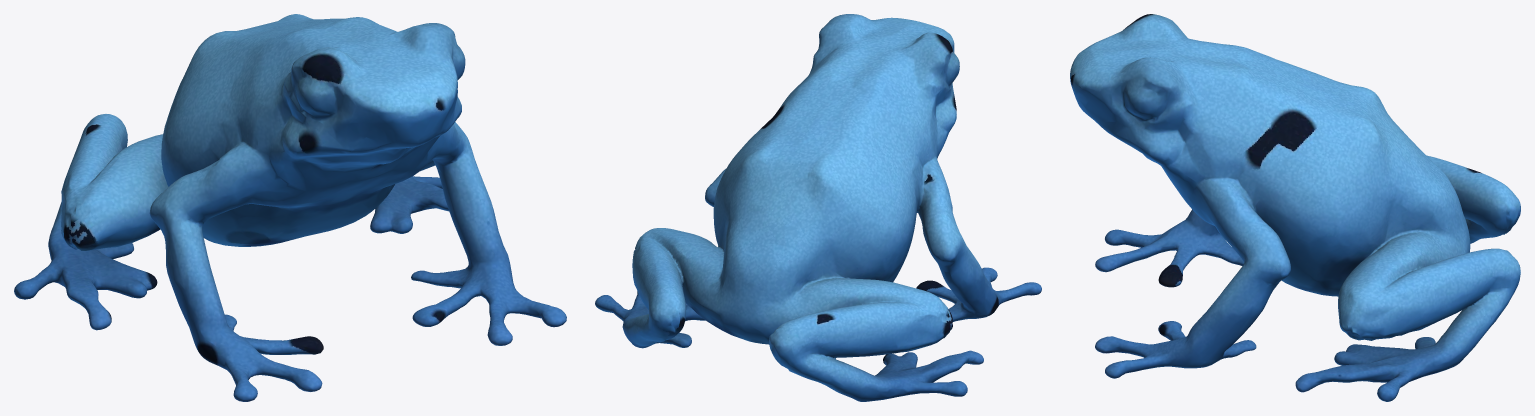
The model's file is dartfrog-sky_clean.glb.
3 views of the same model, side by side, from view 1: azimuth 30°, elevation 25°; view 2: azimuth 150°, elevation 25°; view 3: azimuth 270°, elevation 25° (orthographic). The views are drawn at different scales.
Visible parts, largest first — view 1: dartfrog:sky_clean; view 2: dartfrog:sky_clean; view 3: dartfrog:sky_clean.
Part boxes in pixels (left/top/right/bottom): dartfrog:sky_clean: left=14, top=14, right=566, bottom=401; dartfrog:sky_clean: left=595, top=14, right=1041, bottom=401; dartfrog:sky_clean: left=1070, top=14, right=1520, bottom=401.
Bounding box in the file's own units: 0.0432 × 0.028 × 0.0421.
Materials: 1 (1 with a texture image).
